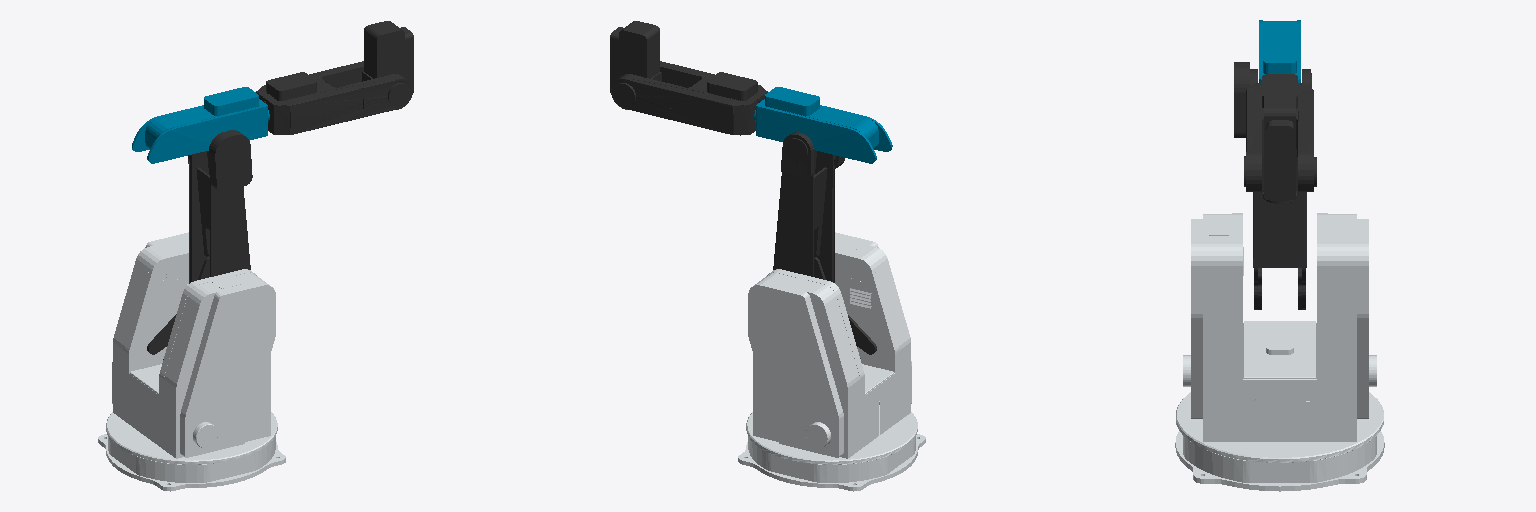
URDF robot description (Horst900_Attemp2):
<?xml version="1.0" encoding="utf-8"?>
<!-- This URDF was automatically created by SolidWorks to URDF Exporter! Originally created by [author] ([email redacted]) 
     Commit Version: 1.6.0-4-g7f85cfe  Build Version: 1.6.7995.38578
     For more information, please see http://wiki.ros.org/sw_urdf_exporter -->
<robot
  name="Horst900_Attemp2">
  <link
    name="base_link">
    <inertial>
      <origin
        xyz="-1.1001E-06 -2.599E-08 0.0058759"
        rpy="0 0 0" />
      <mass
        value="1.21" />
      <inertia
        ixx="0.011177"
        ixy="-7.4313E-08"
        ixz="-1.2107E-13"
        iyy="0.011689"
        iyz="-8.7273E-11"
        izz="0.022837" />
    </inertial>
    <visual>
      <origin
        xyz="0 0 0"
        rpy="0 0 0" />
      <geometry>
        <mesh
          filename="package://Horst900_Attemp2/meshes/base_link.STL" />
      </geometry>
      <material
        name="">
        <color
          rgba="0.89804 0.91765 0.92941 1" />
      </material>
    </visual>
    <collision>
      <origin
        xyz="0 0 0"
        rpy="0 0 0" />
      <geometry>
        <mesh
          filename="package://Horst900_Attemp2/meshes/base_link.STL" />
      </geometry>
    </collision>
  </link>
  <link
    name="link1">
    <inertial>
      <origin
        xyz="0.0007028 0.15394 -0.0031395"
        rpy="0 0 0" />
      <mass
        value="0.06735" />
      <inertia
        ixx="1.3452E-05"
        ixy="2.57E-10"
        ixz="6.9854E-22"
        iyy="2.558E-05"
        iyz="8.8646E-22"
        izz="1.3706E-05" />
    </inertial>
    <visual>
      <origin
        xyz="0 0 0"
        rpy="0 0 0" />
      <geometry>
        <mesh
          filename="package://Horst900_Attemp2/meshes/link1.STL" />
      </geometry>
      <material
        name="">
        <color
          rgba="0.89804 0.91765 0.92941 1" />
      </material>
    </visual>
    <collision>
      <origin
        xyz="0 0 0"
        rpy="0 0 0" />
      <geometry>
        <mesh
          filename="package://Horst900_Attemp2/meshes/link1.STL" />
      </geometry>
    </collision>
  </link>
  <joint
    name="joint1"
    type="revolute">
    <origin
      xyz="0 0 0.0565"
      rpy="1.5708 0 0" />
    <parent
      link="base_link" />
    <child
      link="link1" />
    <axis
      xyz="0 -1 0" />
    <limit
      lower="0"
      upper="0"
      effort="0"
      velocity="0" />
  </joint>
  <link
    name="link2">
    <inertial>
      <origin
        xyz="-0.029492 -0.0027479 2.4951E-05"
        rpy="0 0 0" />
      <mass
        value="0.22367" />
      <inertia
        ixx="0.00056209"
        ixy="-0.00045945"
        ixz="-7.5228E-12"
        iyy="0.00056962"
        iyz="-1.4504E-11"
        izz="0.0011293" />
    </inertial>
    <visual>
      <origin
        xyz="0 0 0"
        rpy="0 0 0" />
      <geometry>
        <mesh
          filename="package://Horst900_Attemp2/meshes/link2.STL" />
      </geometry>
      <material
        name="">
        <color
          rgba="0.25098 0.25098 0.25098 1" />
      </material>
    </visual>
    <collision>
      <origin
        xyz="0 0 0"
        rpy="0 0 0" />
      <geometry>
        <mesh
          filename="package://Horst900_Attemp2/meshes/link2.STL" />
      </geometry>
    </collision>
  </link>
  <joint
    name="joint2"
    type="revolute">
    <origin
      xyz="0.05675 0.28257 0"
      rpy="0 0 0" />
    <parent
      link="link1" />
    <child
      link="link2" />
    <axis
      xyz="0 0 1" />
    <limit
      lower="0"
      upper="0"
      effort="0"
      velocity="0" />
  </joint>
  <link
    name="link3">
    <inertial>
      <origin
        xyz="-2.4854E-05 0.036079 -0.015293"
        rpy="0 0 0" />
      <mass
        value="0.25309" />
      <inertia
        ixx="0.00057293"
        ixy="-1.7292E-10"
        ixz="-6.921E-10"
        iyy="0.00051593"
        iyz="-1.8197E-05"
        izz="8.4556E-05" />
    </inertial>
    <visual>
      <origin
        xyz="0 0 0"
        rpy="0 0 0" />
      <geometry>
        <mesh
          filename="package://Horst900_Attemp2/meshes/link3.STL" />
      </geometry>
      <material
        name="">
        <color
          rgba="0 0.54902 0.70588 1" />
      </material>
    </visual>
    <collision>
      <origin
        xyz="0 0 0"
        rpy="0 0 0" />
      <geometry>
        <mesh
          filename="package://Horst900_Attemp2/meshes/link3.STL" />
      </geometry>
    </collision>
  </link>
  <joint
    name="joint3"
    type="revolute">
    <origin
      xyz="6.7742E-05 0.407 0"
      rpy="0 1.5708 0" />
    <parent
      link="link2" />
    <child
      link="link3" />
    <axis
      xyz="1 0 0" />
    <limit
      lower="0"
      upper="0"
      effort="0"
      velocity="0" />
  </joint>
  <link
    name="link4">
    <inertial>
      <origin
        xyz="-0.19659 -0.0035332 3.5047E-05"
        rpy="0 0 0" />
      <mass
        value="0.038503" />
      <inertia
        ixx="6.2907E-05"
        ixy="-2.0171E-05"
        ixz="-3.1267E-08"
        iyy="0.00024462"
        iyz="-7.0774E-09"
        izz="0.00022597" />
    </inertial>
    <visual>
      <origin
        xyz="0 0 0"
        rpy="0 0 0" />
      <geometry>
        <mesh
          filename="package://Horst900_Attemp2/meshes/link4.STL" />
      </geometry>
      <material
        name="">
        <color
          rgba="0.25098 0.25098 0.25098 1" />
      </material>
    </visual>
    <collision>
      <origin
        xyz="0 0 0"
        rpy="0 0 0" />
      <geometry>
        <mesh
          filename="package://Horst900_Attemp2/meshes/link4.STL" />
      </geometry>
    </collision>
  </link>
  <joint
    name="joint4"
    type="revolute">
    <origin
      xyz="-2.4956E-05 0.03648 0.12703"
      rpy="0 1.5708 0" />
    <parent
      link="link3" />
    <child
      link="link4" />
    <axis
      xyz="1 0 0" />
    <limit
      lower="0"
      upper="0"
      effort="0"
      velocity="0" />
  </joint>
  <link
    name="link5">
    <inertial>
      <origin
        xyz="-0.014949 -0.00019999 -0.024498"
        rpy="0 0 0" />
      <mass
        value="0.025507" />
      <inertia
        ixx="2.1268E-05"
        ixy="1.4476E-11"
        ixz="-2.7343E-07"
        iyy="1.9292E-05"
        iyz="4.8717E-11"
        izz="1.2407E-05" />
    </inertial>
    <visual>
      <origin
        xyz="0 0 0"
        rpy="0 0 0" />
      <geometry>
        <mesh
          filename="package://Horst900_Attemp2/meshes/link5.STL" />
      </geometry>
      <material
        name="">
        <color
          rgba="0.25098 0.25098 0.25098 1" />
      </material>
    </visual>
    <collision>
      <origin
        xyz="0 0 0"
        rpy="0 0 0" />
      <geometry>
        <mesh
          filename="package://Horst900_Attemp2/meshes/link5.STL" />
      </geometry>
    </collision>
  </link>
  <joint
    name="joint5"
    type="revolute">
    <origin
      xyz="-0.308 0 0"
      rpy="-1.5708 0 3.1416" />
    <parent
      link="link4" />
    <child
      link="link5" />
    <axis
      xyz="0 1 0" />
    <limit
      lower="0"
      upper="0"
      effort="0"
      velocity="0" />
  </joint>
  <link
    name="link6">
    <inertial>
      <origin
        xyz="0.46804 -6.2595E-05 0.59277"
        rpy="0 0 0" />
      <mass
        value="1.8181" />
      <inertia
        ixx="0.17075"
        ixy="-3.9322E-07"
        ixz="-0.023792"
        iyy="0.18483"
        iyz="3.8068E-05"
        izz="0.038533" />
    </inertial>
    <visual>
      <origin
        xyz="0 0 0"
        rpy="0 0 0" />
      <geometry>
        <mesh
          filename="package://Horst900_Attemp2/meshes/link6.STL" />
      </geometry>
      <material
        name="">
        <color
          rgba="0.25098 0.25098 0.25098 1" />
      </material>
    </visual>
    <collision>
      <origin
        xyz="0 0 0"
        rpy="0 0 0" />
      <geometry>
        <mesh
          filename="package://Horst900_Attemp2/meshes/link6.STL" />
      </geometry>
    </collision>
  </link>
  <joint
    name="joint6"
    type="revolute">
    <origin
      xyz="0.0001 -0.0002 0"
      rpy="0 0 3.1416" />
    <parent
      link="link5" />
    <child
      link="link6" />
    <axis
      xyz="0 0 -1" />
    <limit
      lower="0"
      upper="0"
      effort="0"
      velocity="0" />
  </joint>
</robot>

--- What the picture shows (computed from the rendered views, not written in the file) ---
The picture shows the robot from 3 angles, left to right: view 1: azimuth 30°, elevation 25°; view 2: azimuth 150°, elevation 25°; view 3: azimuth 270°, elevation 25°; orthographic projection.
Model Horst900_Attemp2 with 7 links and 6 joints (6 revolute), rooted at base_link, posed every joint at zero.
Visible links, largest first — view 1: link1, link2, link4, link3, base_link, link5; view 2: link1, link2, link4, link3, base_link, link5; view 3: link1, base_link, link2, link4, link5, link3.
Link boxes in pixels (box(x1,y1,x2,y2)): link1: box(106, 232, 277, 464); link2: box(147, 130, 252, 359); link4: box(256, 61, 412, 134); link3: box(132, 87, 269, 163); base_link: box(98, 434, 285, 491); link5: box(362, 21, 413, 92); link1: box(746, 232, 917, 464); link2: box(773, 132, 876, 358); link4: box(611, 61, 767, 135); link3: box(754, 87, 892, 163); base_link: box(738, 434, 925, 491); link5: box(610, 21, 661, 92); link1: box(1176, 213, 1383, 462); base_link: box(1175, 431, 1384, 491); link2: box(1234, 62, 1311, 309); link4: box(1244, 74, 1316, 191); link5: box(1264, 97, 1296, 200); link3: box(1259, 20, 1300, 82).
Bounding box of the posed robot: 0.7426 × 0.38 × 0.9203 m (x, y, z).
Meshes: 7 distinct files referenced, 7 mesh visuals loaded (7 binary STL).
